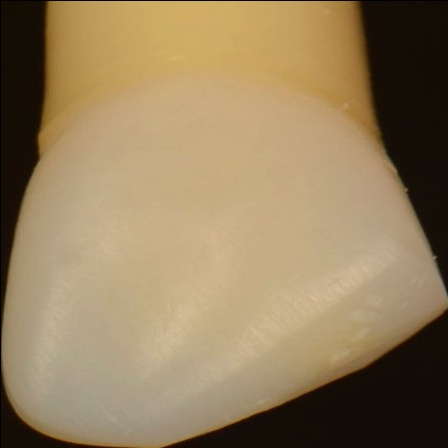coin_1: (380, 139, 400, 159)
coin_2: (421, 227, 441, 247)
coin_3: (38, 155, 58, 175)
coin_4: (9, 255, 29, 275)
